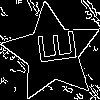E: (27, 28, 77, 68)
